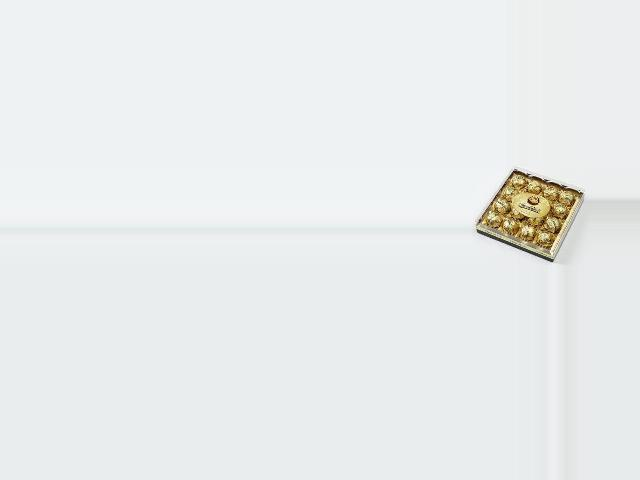chocolate: (473, 166, 585, 264)
